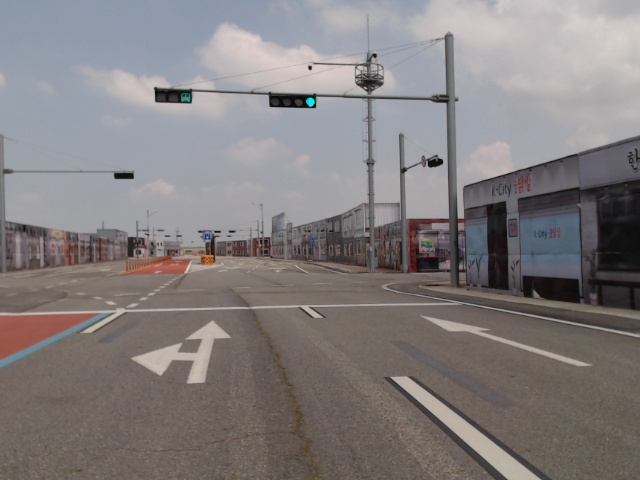straight_green_4: (269, 94, 317, 108)
